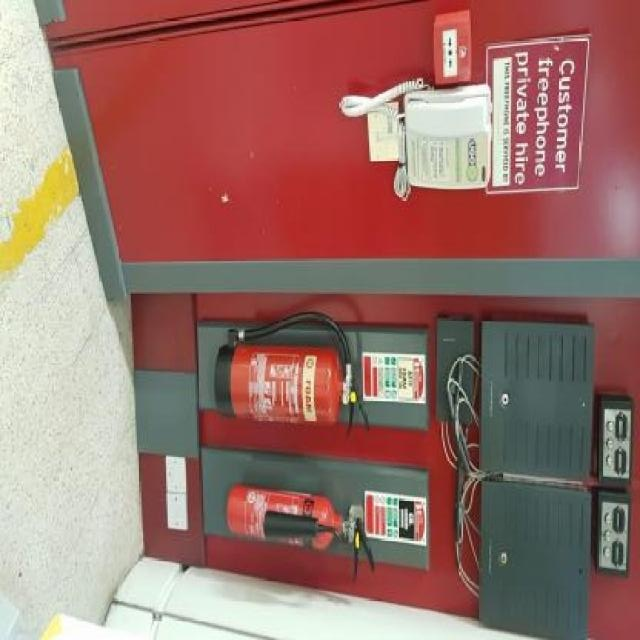fire extinguisher: (212, 313, 360, 427), (225, 487, 370, 556)
